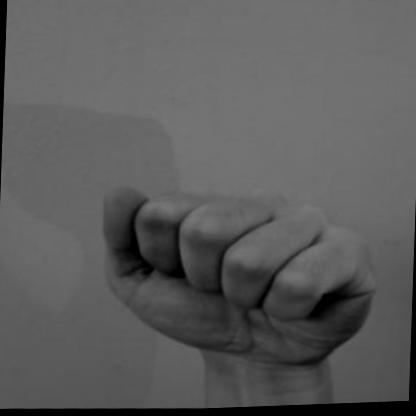A: (82, 163, 396, 384)
